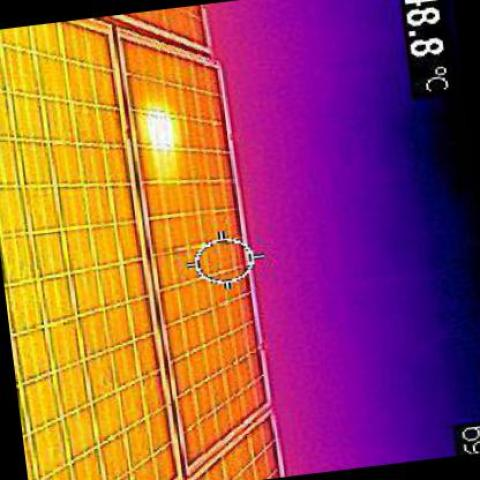fault: (147, 103, 175, 154)
